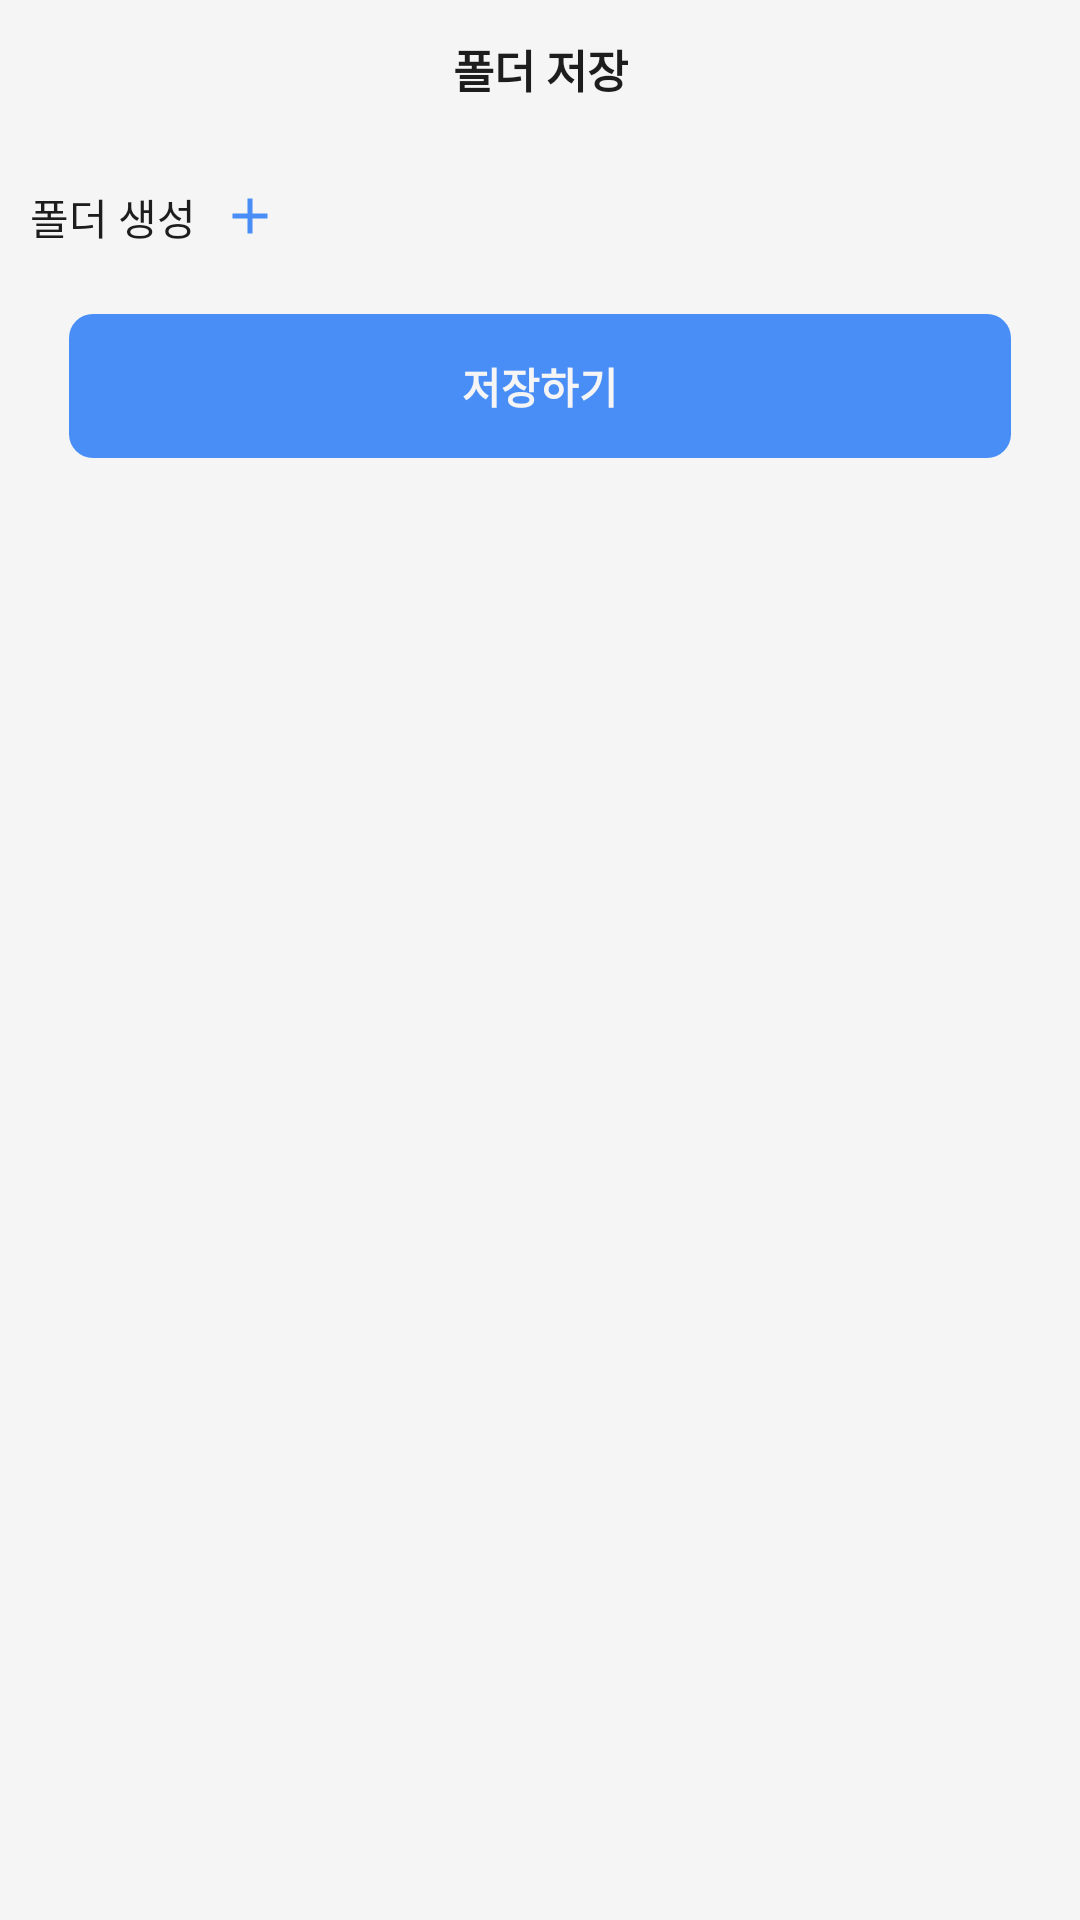

Icons on this 1080 x 1920 Android screen, each with the point to tap as (x,y):
plus: (250,216)
